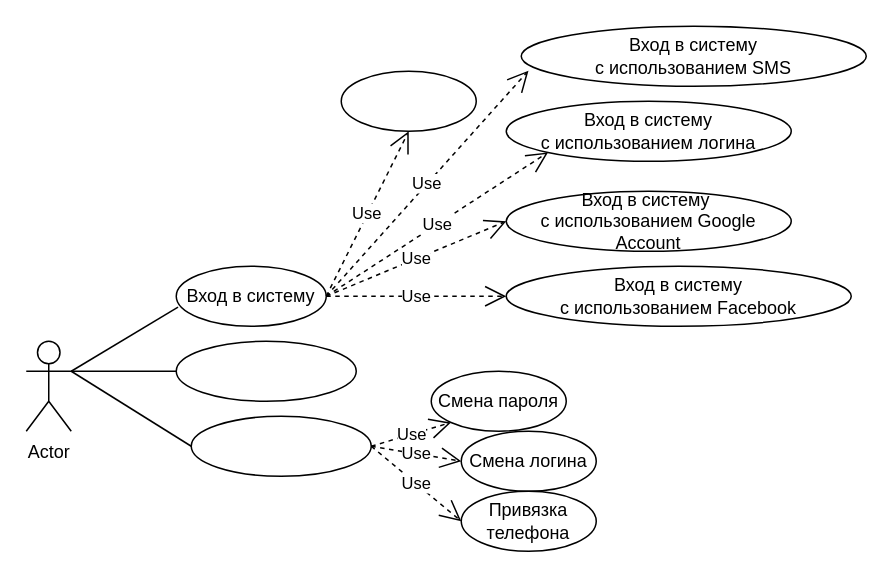
Some shapes in this 893 by 578 pixel diagram are drawn without their labels. Each missing label, with the centre of its shape:
"Взаимодействие с интерфейсом" belongs at pixel 265 370.
"Сброс пароля" belongs at pixel 408 100.
"Управление аккаунтом" belongs at pixel 280 445.
